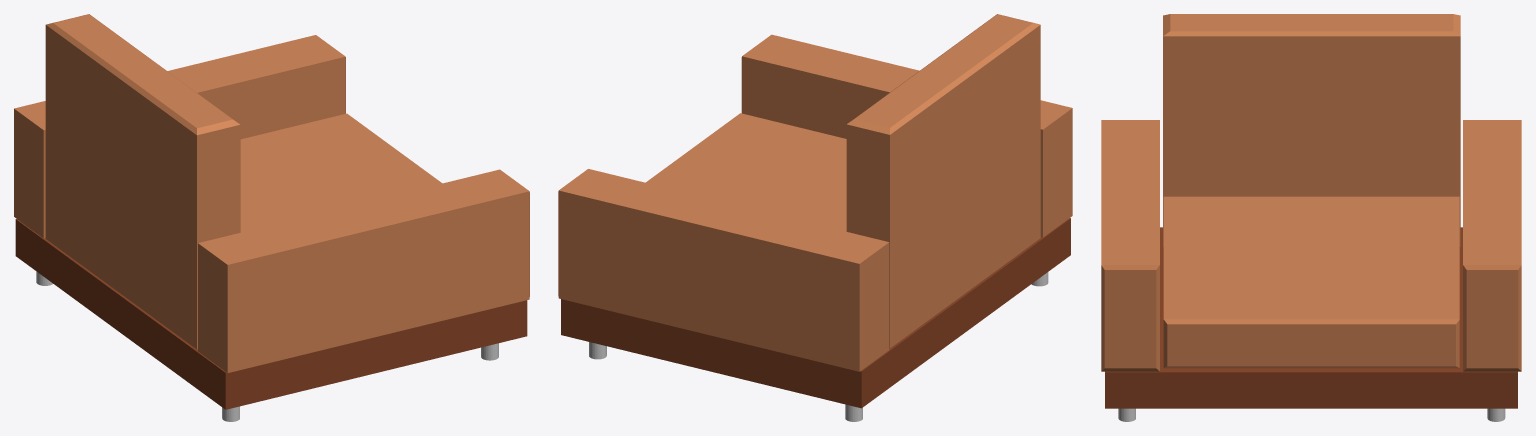
The model's file is armchair.fbx.
3 views of the same model, side by side, from view 1: azimuth 30°, elevation 25°; view 2: azimuth 150°, elevation 25°; view 3: azimuth 270°, elevation 25° (orthographic).
Visible parts, largest first — view 1: Cube; view 2: Cube; view 3: Cube.
Part boxes in pixels (bbox=[...]): Cube: bbox=[14, 14, 529, 421]; Cube: bbox=[558, 14, 1072, 421]; Cube: bbox=[1101, 14, 1521, 421].
Bounding box in the file's own units: 77.91 × 68.07 × 94.64.
